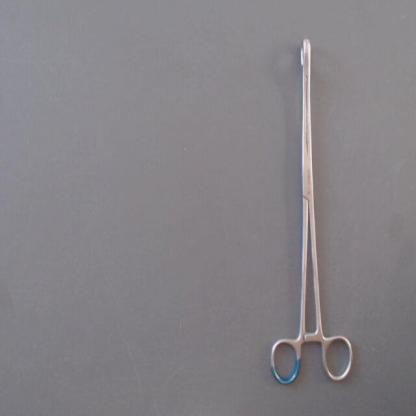Sponge Forceps: (263, 30, 360, 393)
